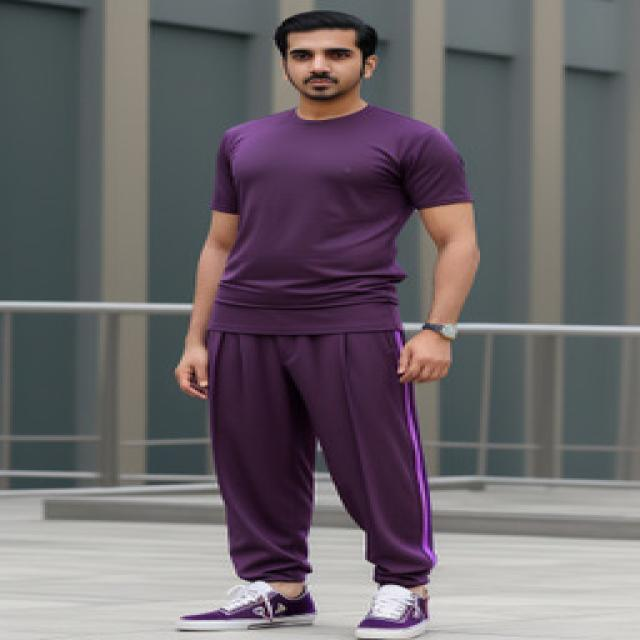Ai human 2: (153, 5, 514, 640)
